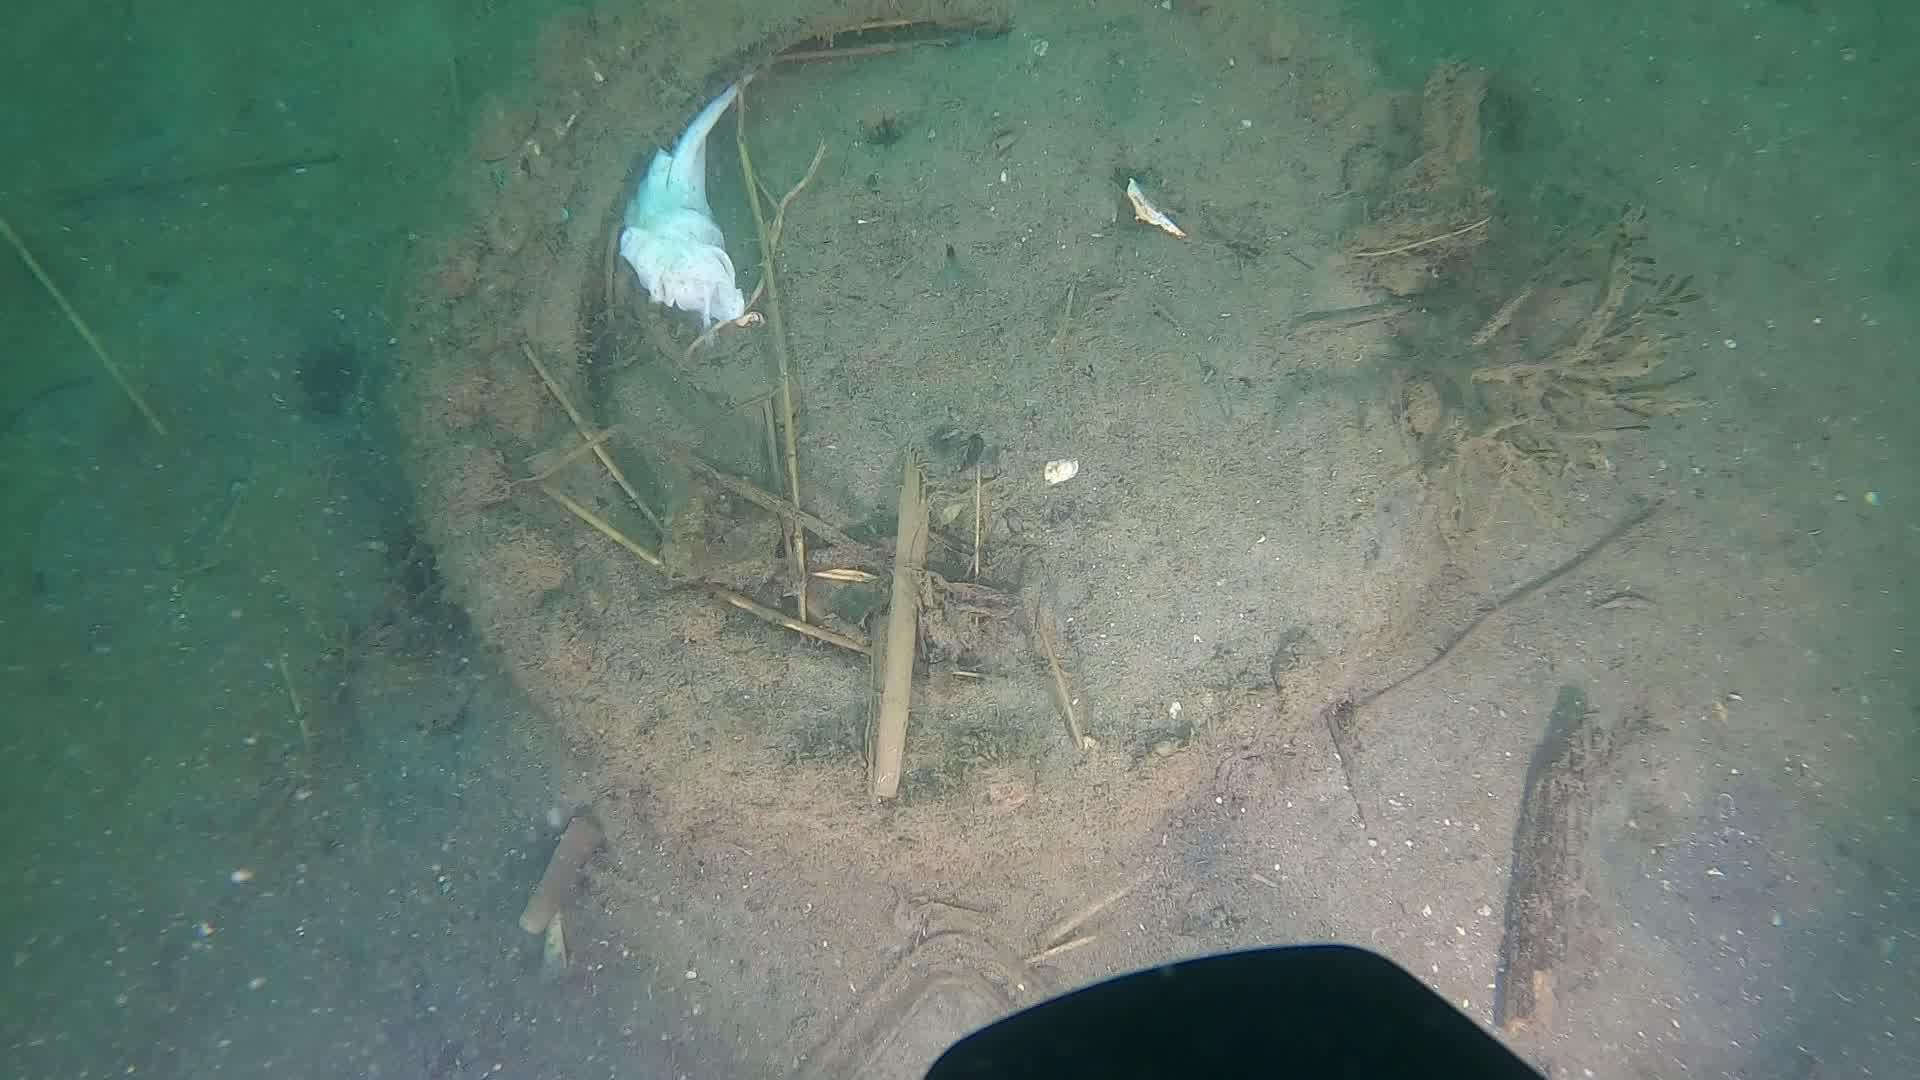tire: (396, 3, 1001, 829)
